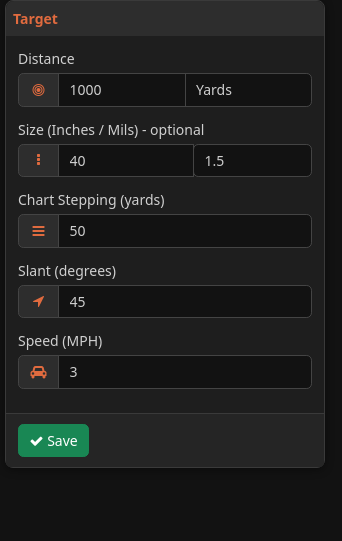
Test: displays validation error for sizeInches when value exceeds max
Replace the text in the number field named "sizeInches" with "130" at x=126, y=160, box [58,144,194,177]
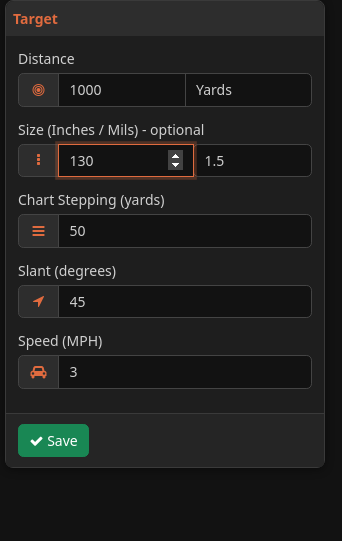
Press Tab
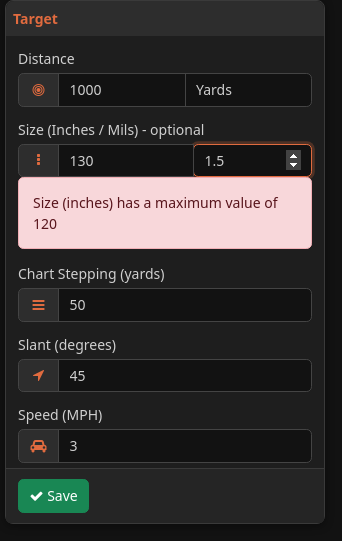
Check: the text "Size (inches) has a maximum value of 120" is shown, box [18,177,312,249]
